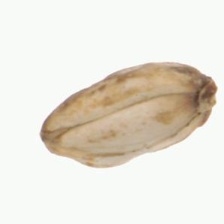L1: (38, 111, 73, 160), (193, 66, 218, 123)
L2: (39, 61, 217, 168)
